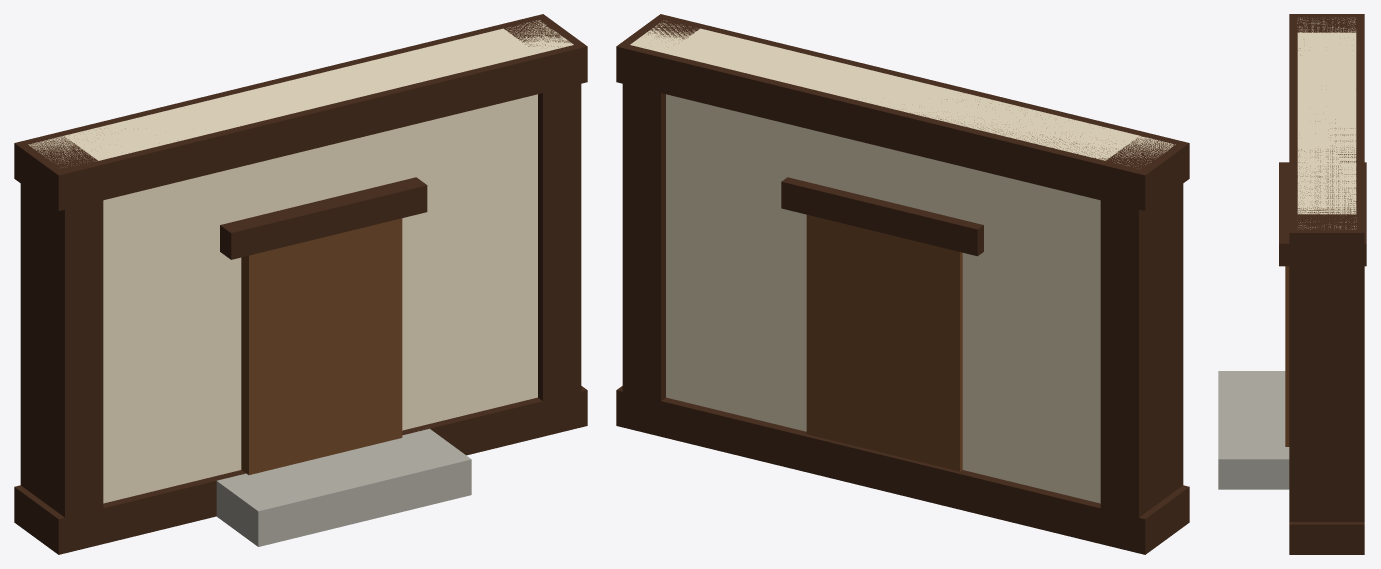
The model's file is timber_wall_door.glb.
3 renders of one model, left to right at view 1: azimuth 30°, elevation 25°; view 2: azimuth 150°, elevation 25°; view 3: azimuth 270°, elevation 25°, orthographic. The views are drawn at different scales.
Visible parts, largest first — view 1: wall_plaster, door_leaf, post, beam_top, post.001, door_step, beam_bot, door_frame_t; view 2: wall_plaster, door_leaf, post, beam_top, beam_bot, post.001, door_frame_t; view 3: post.001, wall_plaster, door_step, beam_top, beam_bot, door_frame_t, post, door_leaf.
Part boxes in pixels (x1,y1,x2,y2): wall_plaster: [28, 20, 573, 503]; door_leaf: [241, 218, 402, 474]; post: [20, 132, 103, 553]; beam_top: [14, 14, 587, 210]; post.001: [499, 15, 581, 436]; door_step: [216, 428, 471, 546]; beam_bot: [14, 386, 587, 554]; door_frame_t: [220, 177, 427, 259]; wall_plaster: [630, 20, 1175, 503]; door_leaf: [806, 215, 962, 471]; post: [1100, 132, 1183, 551]; beam_top: [616, 14, 1189, 210]; beam_bot: [616, 386, 1189, 554]; post.001: [622, 15, 704, 436]; door_frame_t: [781, 177, 983, 256]; post.001: [1289, 214, 1364, 521]; wall_plaster: [1297, 18, 1356, 229]; door_step: [1218, 371, 1289, 489]; beam_top: [1289, 14, 1364, 263]; beam_bot: [1289, 522, 1364, 554]; door_frame_t: [1279, 162, 1366, 266]; post: [1289, 16, 1364, 32]; door_leaf: [1285, 266, 1289, 446].
Bounding box in the file's own units: 1.24 × 0.85 × 0.355.
